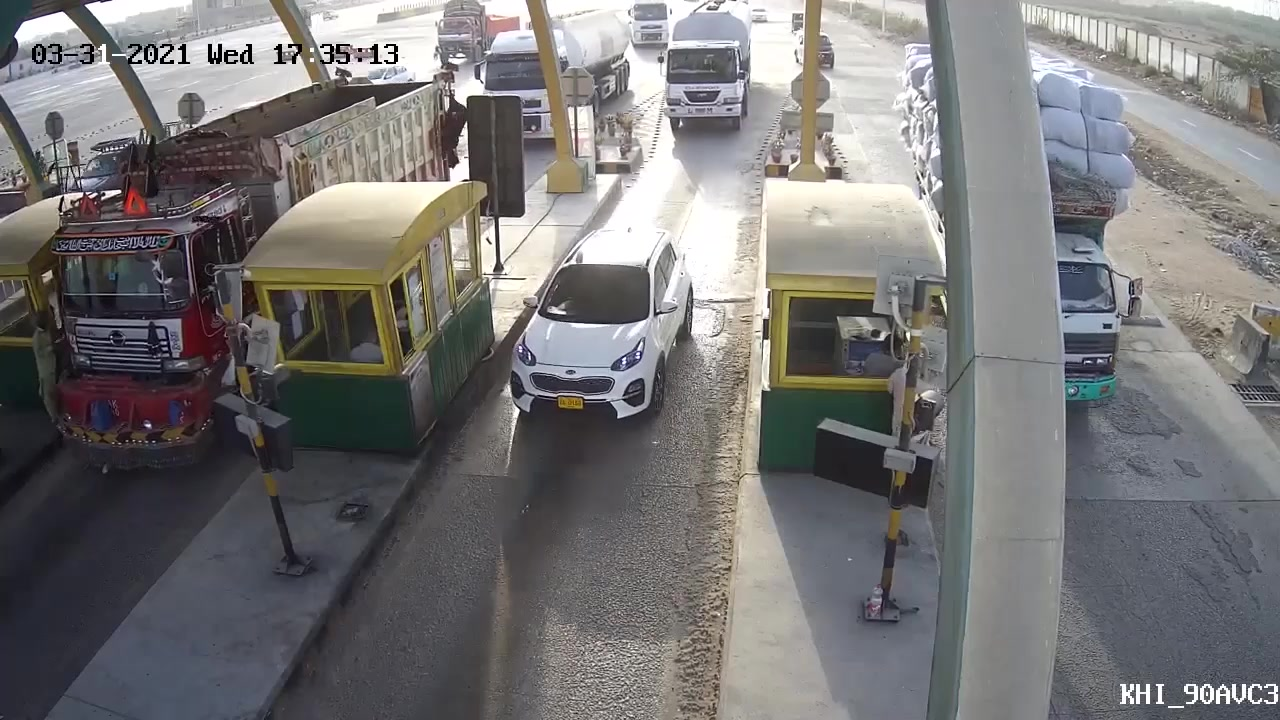F1: (499, 224, 695, 449)
